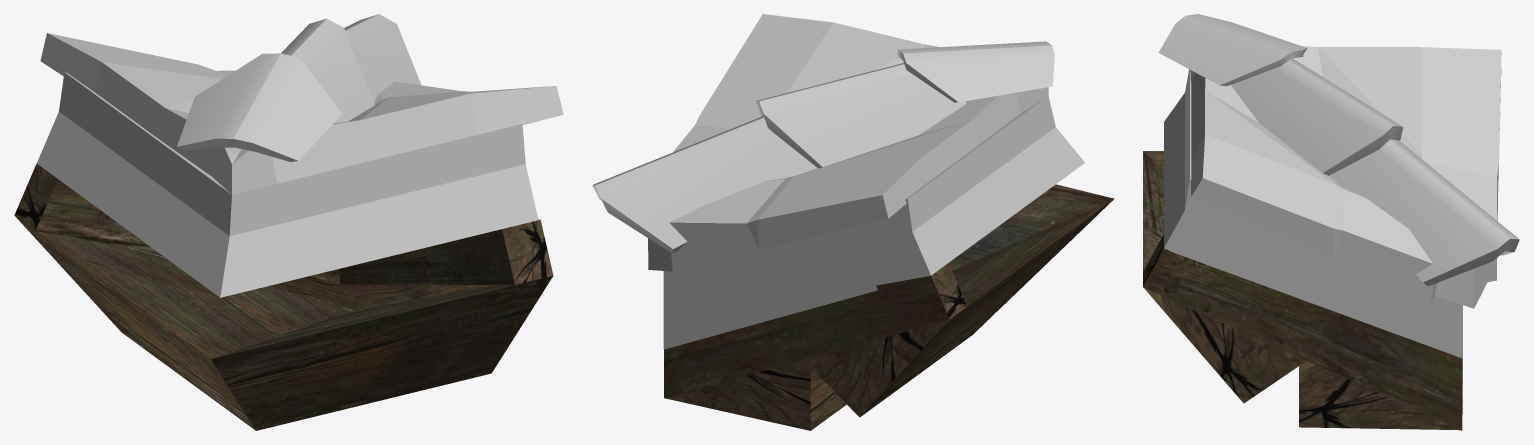
3 views of the same model, side by side, from view 1: azimuth 30°, elevation 25°; view 2: azimuth 150°, elevation 25°; view 3: azimuth 270°, elevation 25° (orthographic). The views are drawn at different scales.
Visible parts, largest first — view 1: SM_T1_Roof_Small_Valley_Shallow_LOD0; view 2: SM_T1_Roof_Small_Valley_Shallow_LOD0; view 3: SM_T1_Roof_Small_Valley_Shallow_LOD0.
Part boxes in pixels (box(x1,y1,x2,y2)): SM_T1_Roof_Small_Valley_Shallow_LOD0: box(14, 14, 563, 430); SM_T1_Roof_Small_Valley_Shallow_LOD0: box(592, 14, 1114, 430); SM_T1_Roof_Small_Valley_Shallow_LOD0: box(1143, 14, 1519, 430).
Bounding box in the file's own units: 1.07 × 0.9599 × 1.07.
